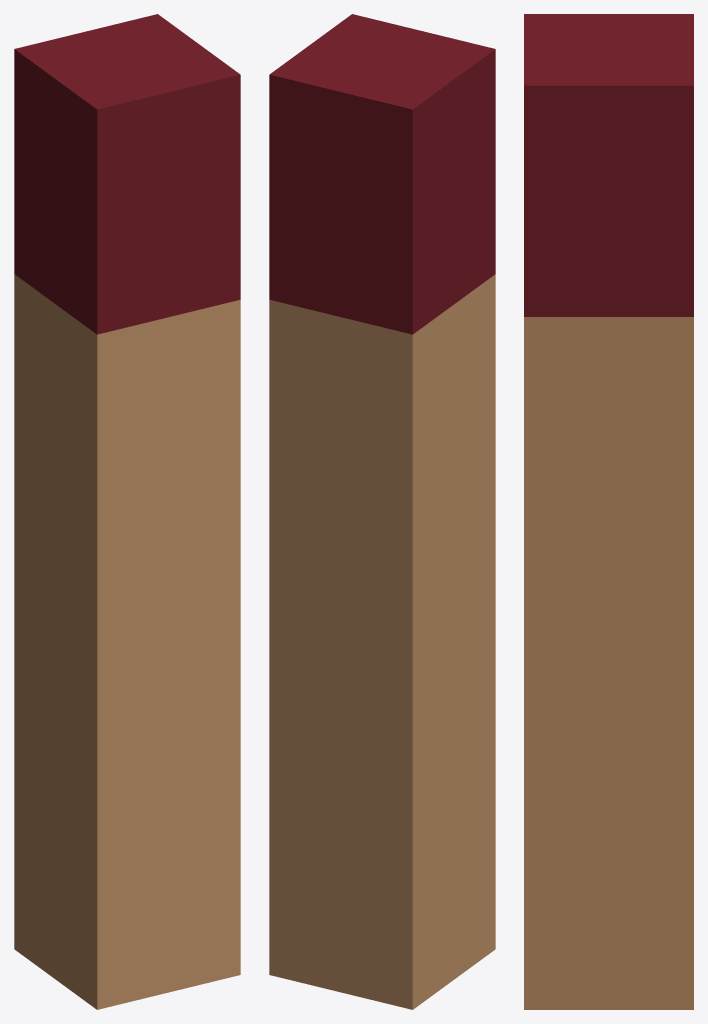
Rendered from arm.obj.
3 renders of one model, left to right at view 1: azimuth 30°, elevation 25°; view 2: azimuth 150°, elevation 25°; view 3: azimuth 270°, elevation 25°, orthographic. The views are drawn at different scales.
Bounding box in the file's own units: 0.2 × 1.2 × 0.2.
Materials: 1 (1 with a texture image).
